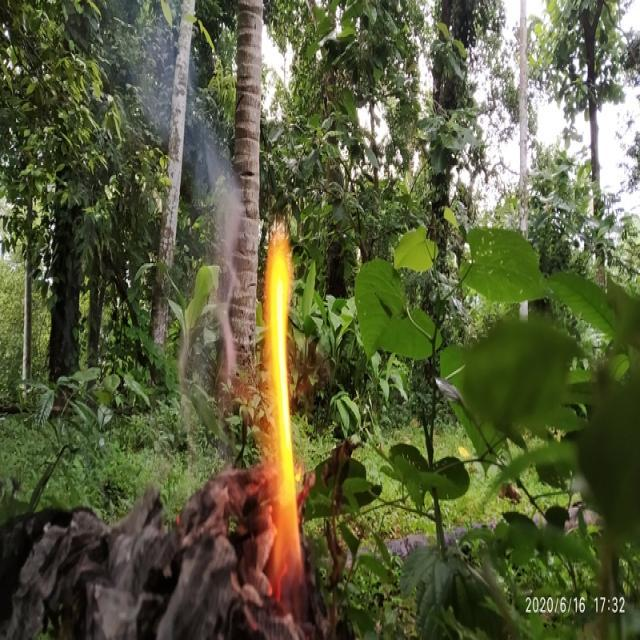Fire: (258, 228, 304, 602)
